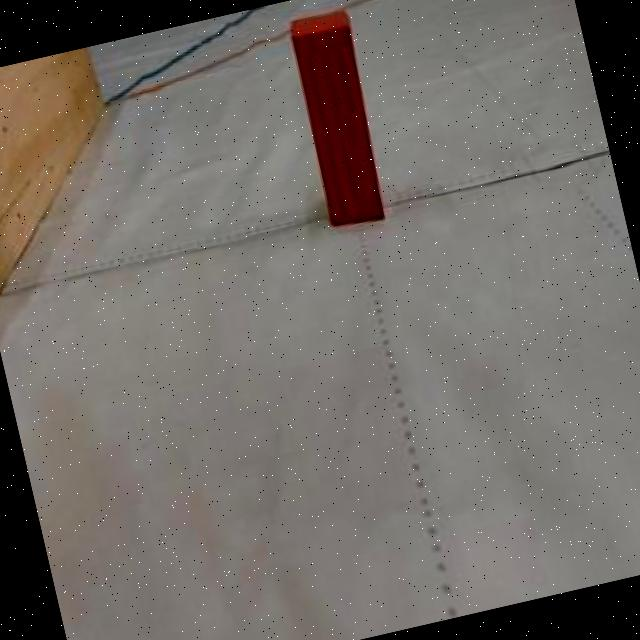redbox: (282, 6, 394, 231)
